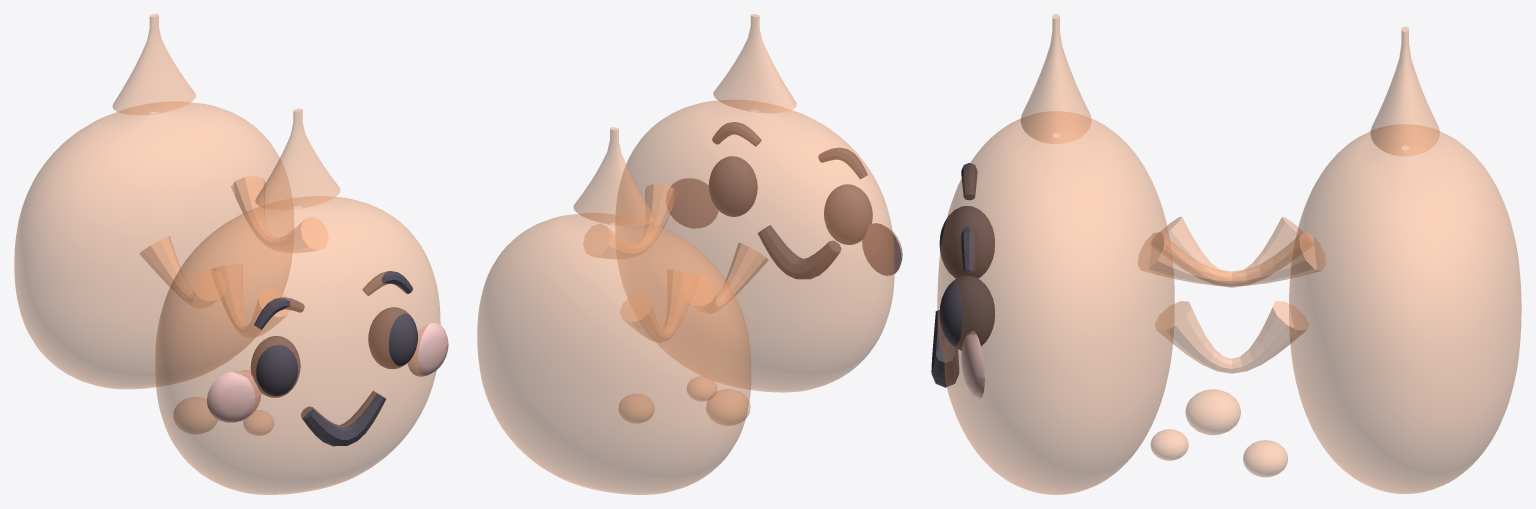
The model's file is jelly-friends-playroom-jelly-ember-pulled-apart-792c7281__27619.glb.
3 renders of one model, left to right at view 1: azimuth 30°, elevation 25°; view 2: azimuth 150°, elevation 25°; view 3: azimuth 270°, elevation 25°, orthographic. The views are drawn at different scales.
Visible parts, largest first — view 1: body, half-back, strands, eye-right, eye-left, blush-left, mouth, blush-right, brow-left, brow-right; view 2: half-back, body, strands, eye-right, eye-left, blush-right, mouth, blush-left, brow-left, brow-right; view 3: body, half-back, strands, eye-right, eye-left, mouth, blush-right, brow-right.
Part boxes in pixels (left/top/right/bottom): body: left=155, top=108, right=440, bottom=494; half-back: left=14, top=14, right=293, bottom=389; strands: left=139, top=176, right=328, bottom=435; eye-right: left=368, top=307, right=417, bottom=368; eye-left: left=250, top=336, right=300, bottom=397; blush-left: left=207, top=371, right=261, bottom=422; mouth: left=301, top=391, right=385, bottom=446; blush-right: left=407, top=323, right=448, bottom=376; brow-left: left=254, top=297, right=304, bottom=329; brow-right: left=362, top=271, right=412, bottom=295; half-back: left=477, top=127, right=751, bottom=494; body: left=615, top=14, right=894, bottom=392; strands: left=583, top=184, right=768, bottom=425; eye-right: left=708, top=156, right=757, bottom=216; eye-left: left=824, top=184, right=872, bottom=244; blush-right: left=666, top=178, right=718, bottom=228; mouth: left=758, top=225, right=841, bottom=279; blush-left: left=862, top=223, right=902, bottom=275; brow-left: left=818, top=147, right=867, bottom=179; brow-right: left=712, top=122, right=761, bottom=146; body: left=937, top=14, right=1174, bottom=494; half-back: left=1289, top=26, right=1521, bottom=493; strands: left=1138, top=217, right=1325, bottom=477; eye-right: left=939, top=275, right=994, bottom=350; eye-left: left=939, top=206, right=994, bottom=278; mouth: left=931, top=310, right=959, bottom=387; blush-right: left=961, top=330, right=984, bottom=398; brow-right: left=961, top=226, right=977, bottom=272.
Size of the model in its own units: 0.2159 by 0.2766 by 0.338.
